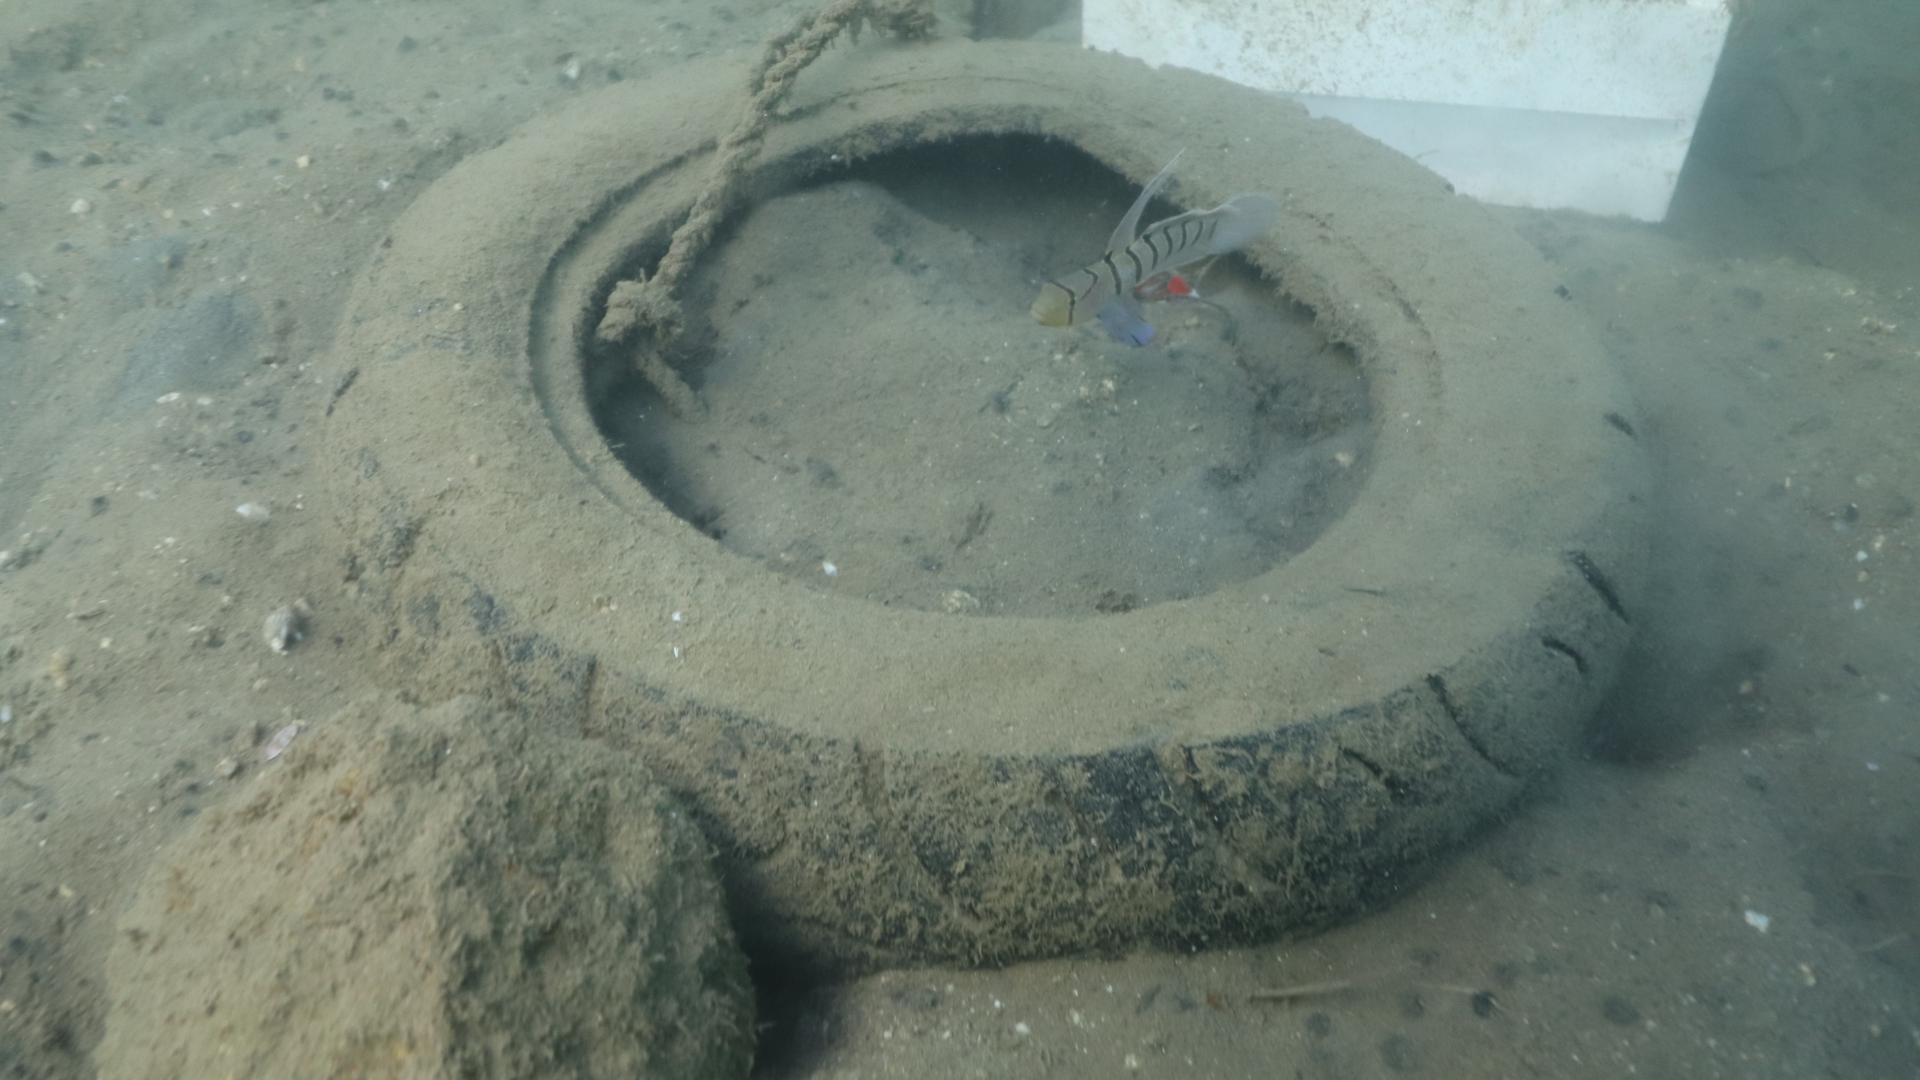bundle of ropes: (589, 0, 860, 419)
tire: (316, 32, 1658, 984)
